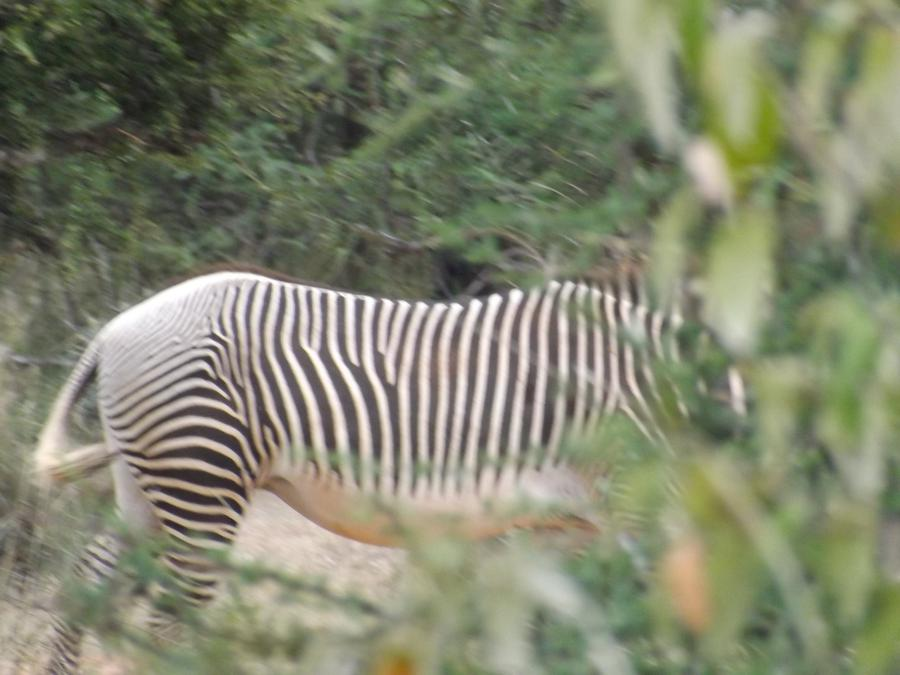zebra_grevys: (78, 252, 606, 510)
